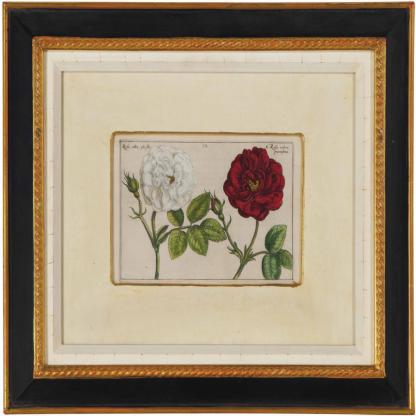Picture-frame: (33, 38, 386, 380)
